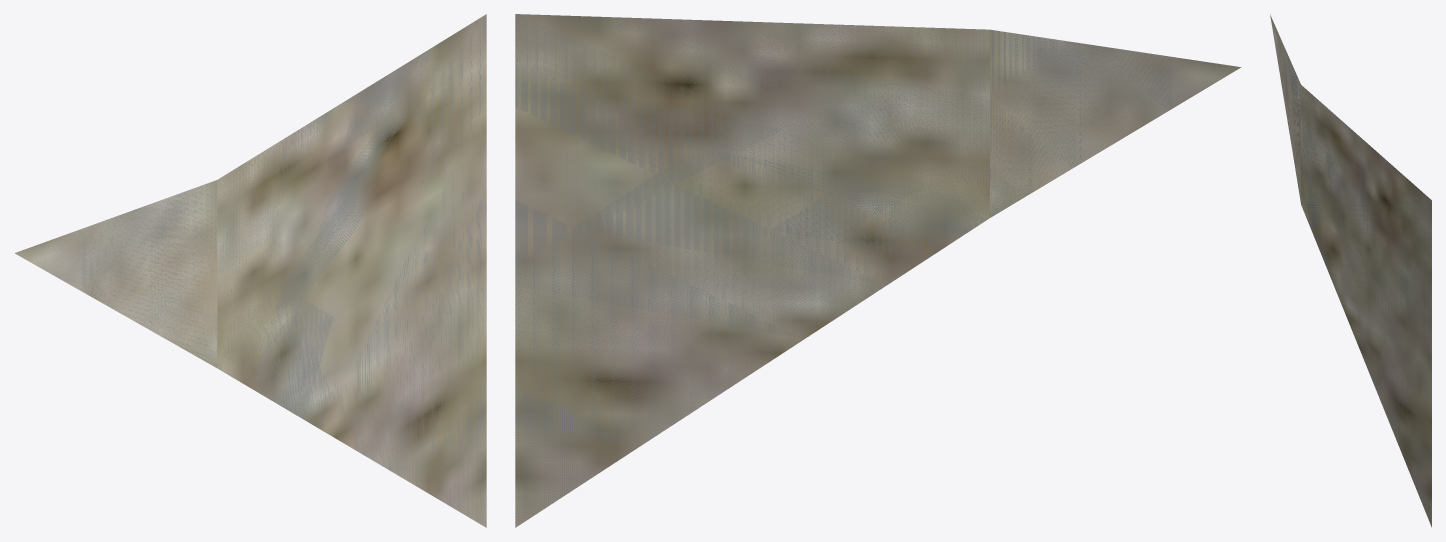
The model's file is 西庸城堡50.dae.
3 renders of one model, left to right at view 1: azimuth 30°, elevation 25°; view 2: azimuth 150°, elevation 25°; view 3: azimuth 270°, elevation 25°, orthographic. The views are drawn at different scales.
Parts seen in each view (by area): view 1: SketchUp; view 2: SketchUp; view 3: SketchUp.
Part boxes in pixels (bbox=[...]): SketchUp: bbox=[15, 14, 486, 527]; SketchUp: bbox=[515, 14, 1241, 527]; SketchUp: bbox=[1270, 14, 1431, 527].
Size of the model in its own units: 46.92 by 17.23 by 38.45.
